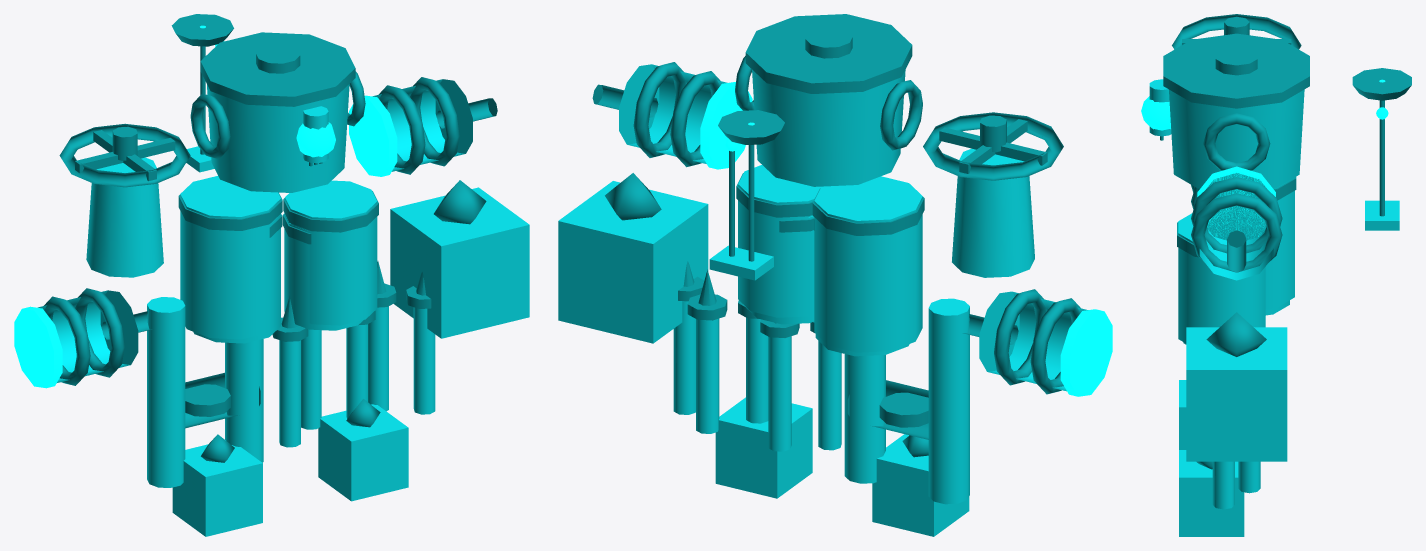
The model's file is golem_086.glb.
3 views of the same model, side by side, from view 1: azimuth 30°, elevation 25°; view 2: azimuth 150°, elevation 25°; view 3: azimuth 270°, elevation 25° (orthographic). The views are drawn at different scales.
Visible parts, largest first — view 1: Body, Detail, Glow; view 2: Body, Detail, Glow; view 3: Body, Detail, Glow.
Boxes of the visible parts, x1,y1,x2,y2 form: Body: (38,79,529,536); Detail: (44,14,497,462); Glow: (14,25,397,388); Body: (558,64,1087,536); Detail: (592,14,1080,457); Glow: (700,82,1112,396); Body: (1149,79,1399,536); Detail: (1160,14,1411,469); Glow: (1141,79,1388,239).
Bounding box in the file's own units: 1.27 × 1.12 × 0.6381.
